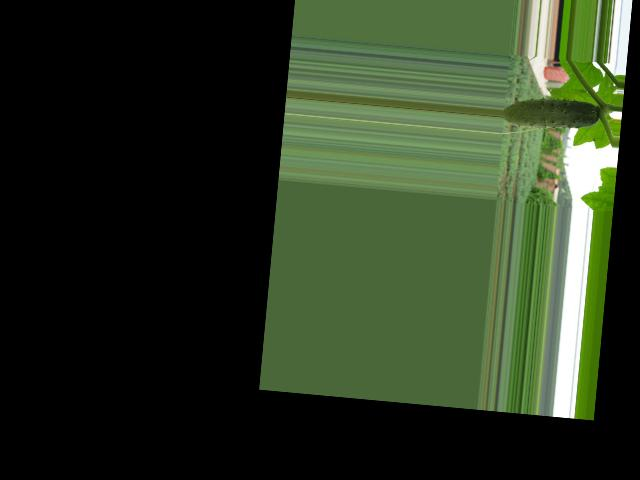cucumber: (502, 94, 600, 133)
